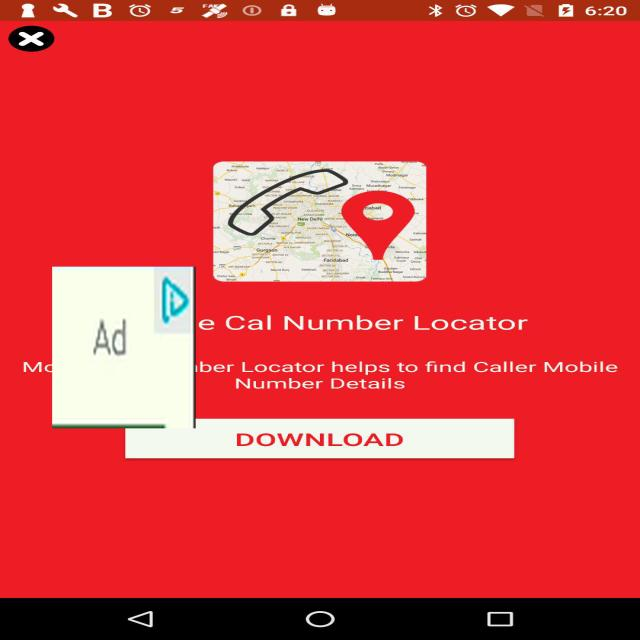sneaking: (52, 267, 196, 428)
